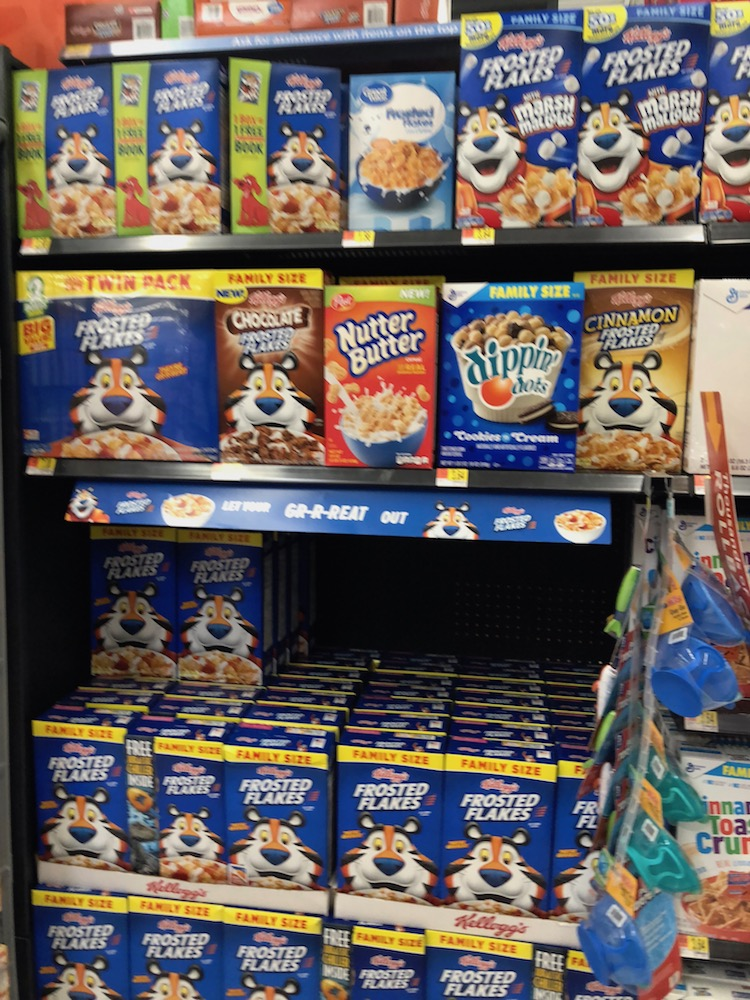Dippin Dots Cookies & Cream -568929378: (440, 311, 581, 468)
Nutter Butter-565717511: (323, 299, 438, 460)
